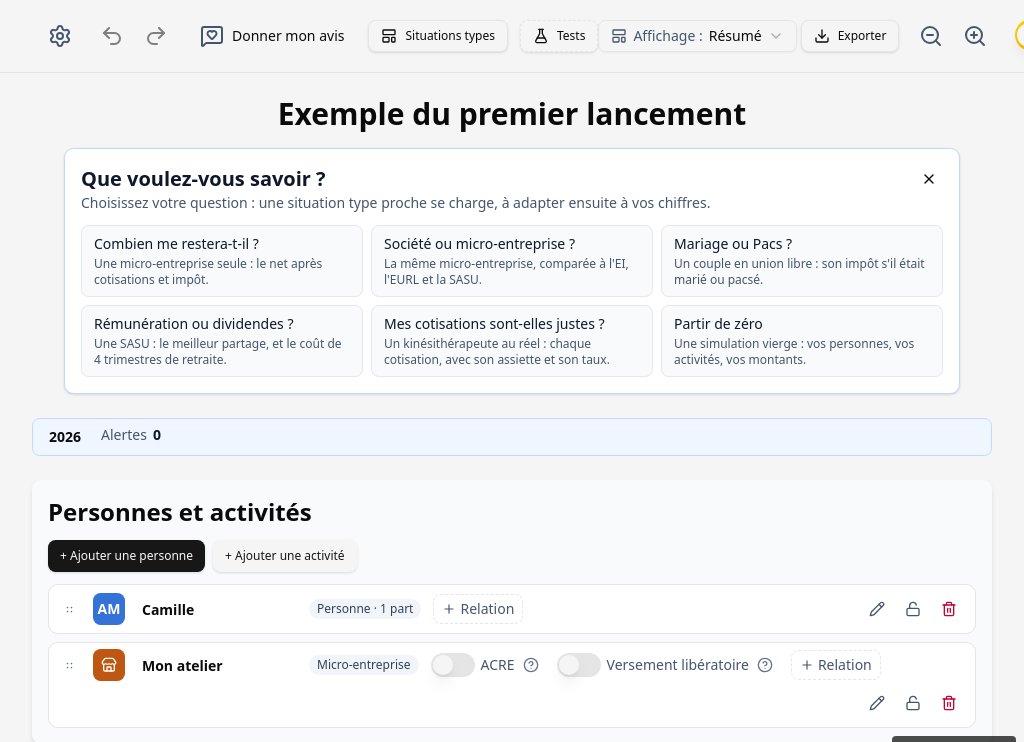
Test: App : montages types › sur l'exemple de la démo non modifié, charge un montage directement, annulable en une étape
Check: the heading "Exemple du premier lancement" is shown, box [278,93,746,134]
Click the button "Situations types": (438,36) [368,20,508,52]
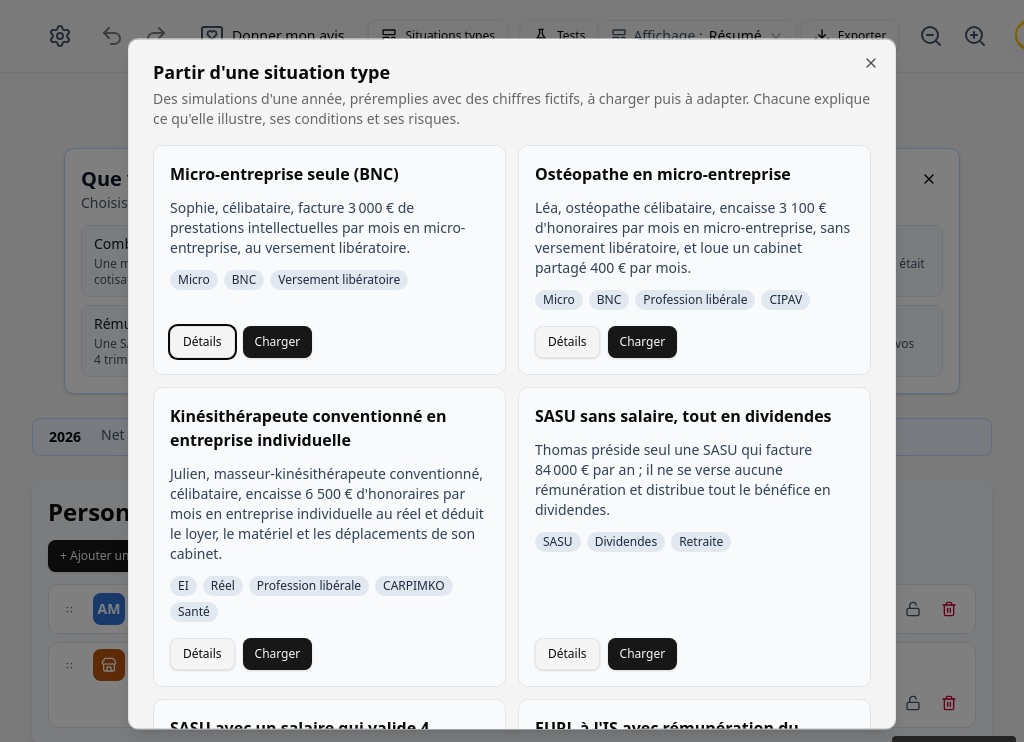
Click the button named "Charger la situation « SASU sans salaire, tout en dividendes »": (642,654) [608,638,677,670]
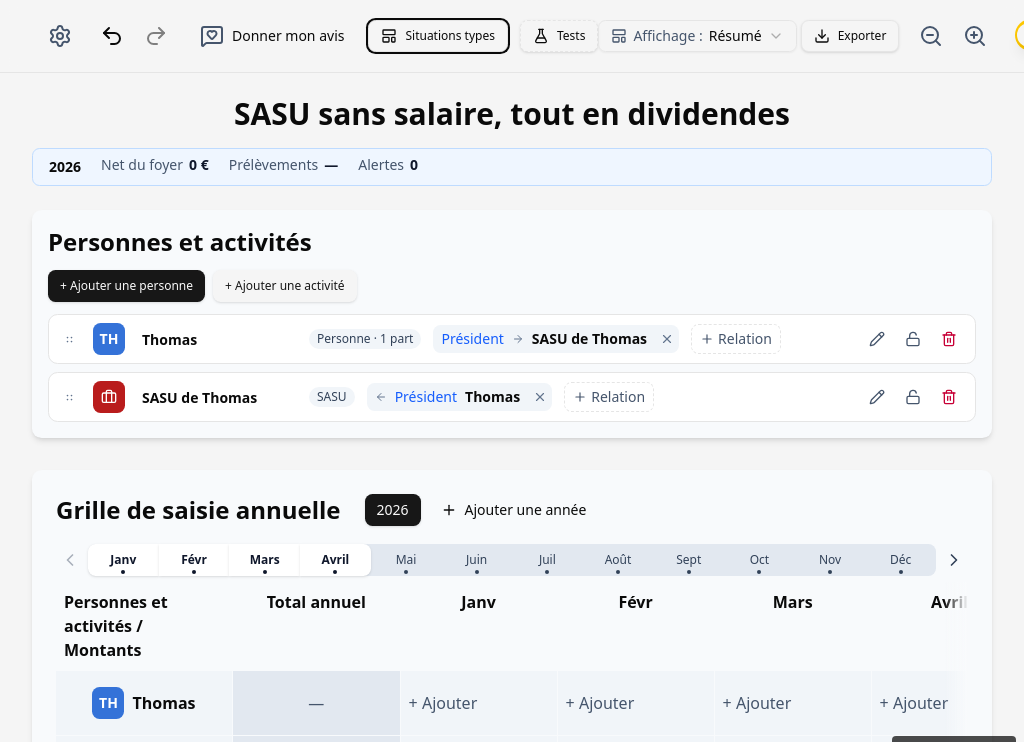
Check: the heading "SASU sans salaire, tout en dividendes" is shown, box [234,93,790,134]
Click the button named "Annuler": (112,36) [92,16,132,56]
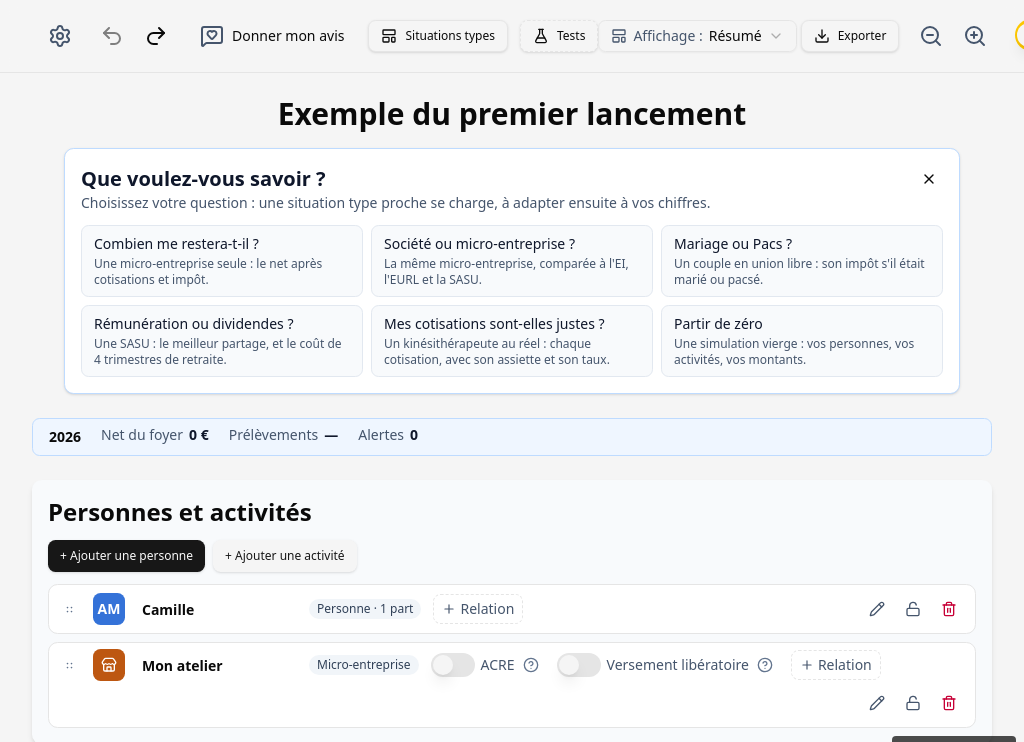
Check: the heading "Exemple du premier lancement" is shown, box [278,93,746,134]
